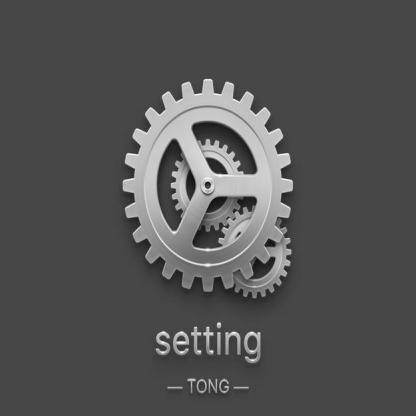FOD: (121, 76, 296, 296), (169, 135, 244, 237), (216, 204, 292, 300)
